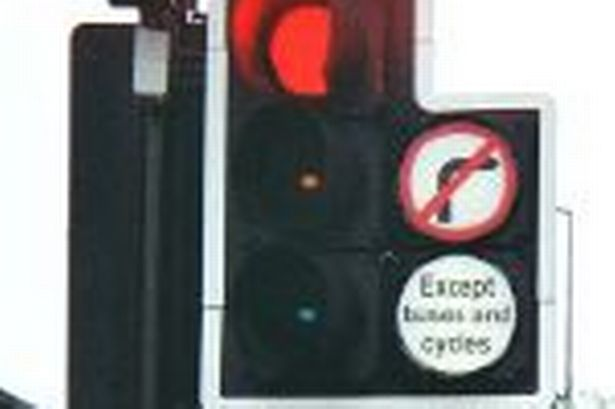No_right_turn: (395, 120, 521, 241)
